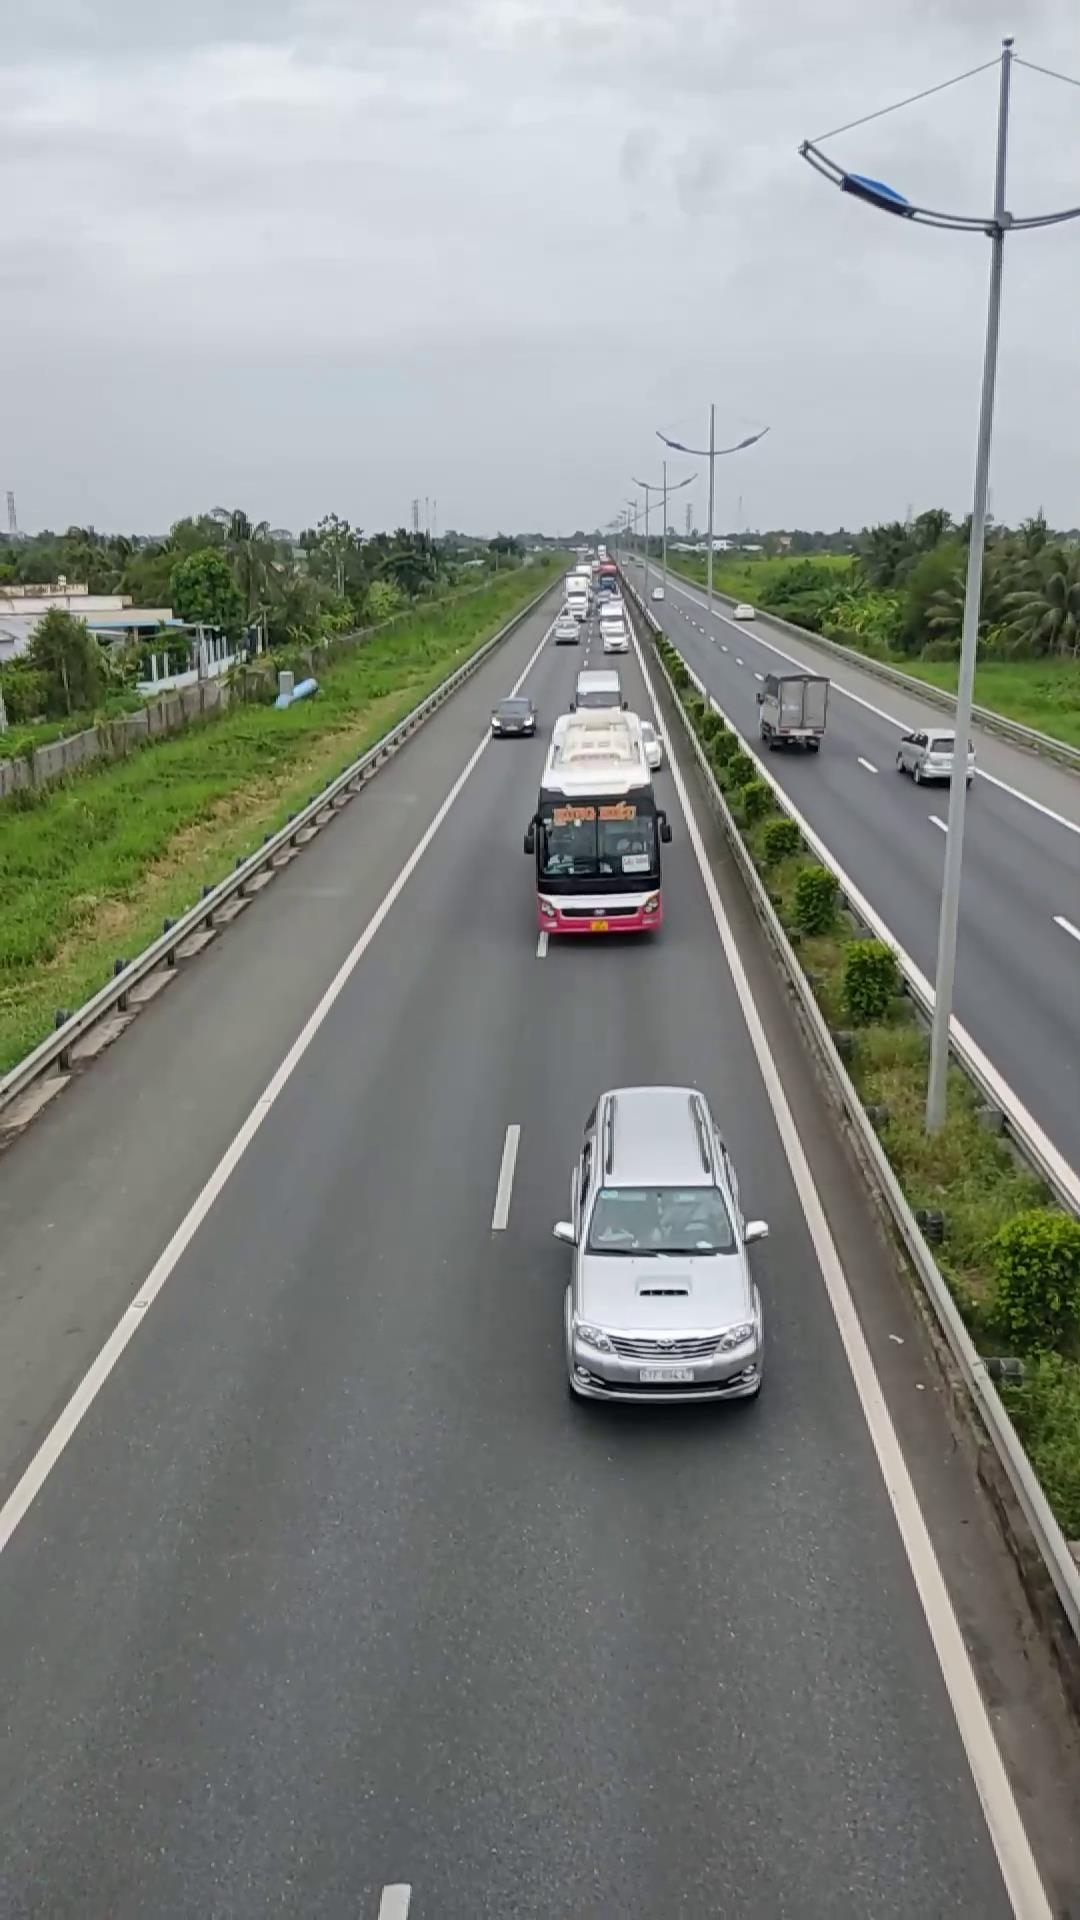bus: (525, 709, 669, 940)
car: (555, 1083, 771, 1408)
truck: (756, 665, 829, 752)
